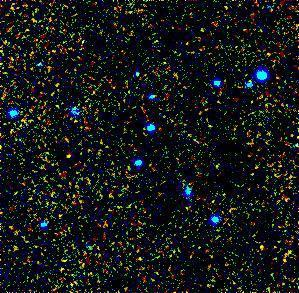star: (52, 145, 82, 175)
